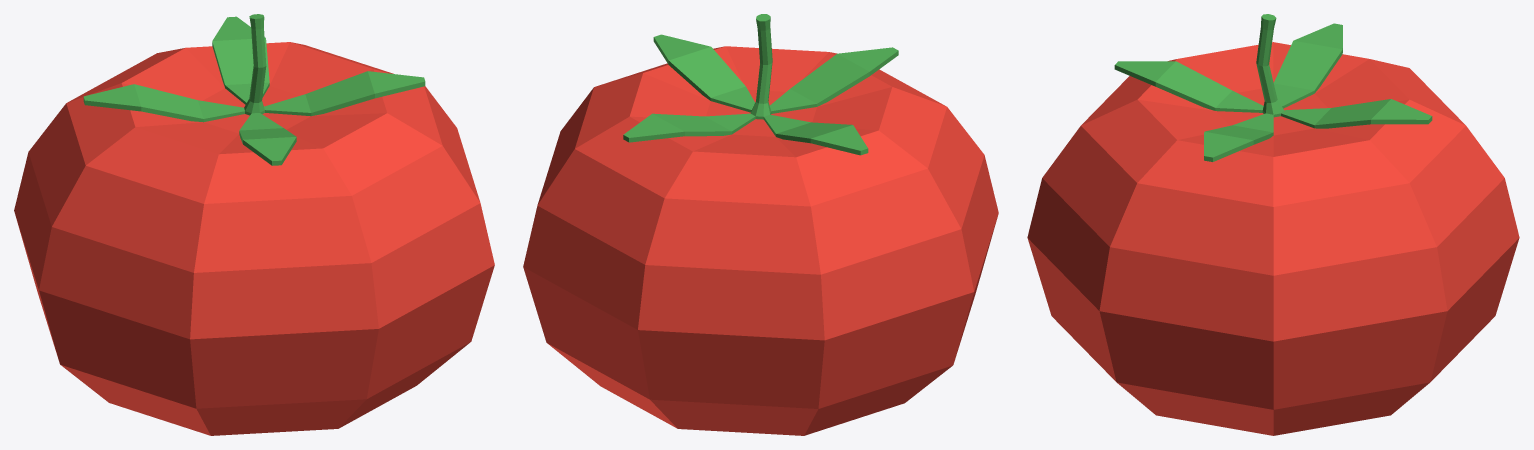
The model's file is tomato.glb.
The picture shows the model from 3 angles, left to right: view 1: azimuth 30°, elevation 25°; view 2: azimuth 150°, elevation 25°; view 3: azimuth 270°, elevation 25°; orthographic projection.
Visible parts, largest first — view 1: node-0; view 2: node-0; view 3: node-0.
Part boxes in pixels (x1,y1,x2,y2): node-0: (14, 14, 494, 435); node-0: (523, 14, 998, 435); node-0: (1027, 14, 1519, 435).
Bounding box in the file's own units: 10.47 × 8.32 × 10.47.
